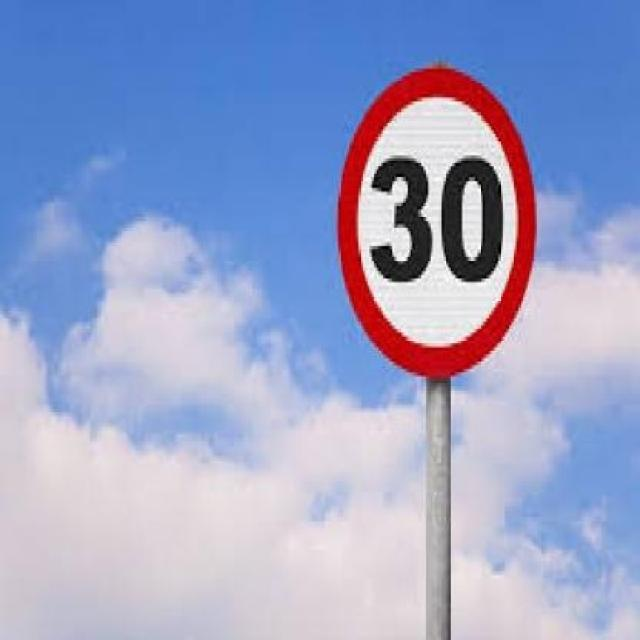forb_speed_over_30: (338, 65, 539, 383)
